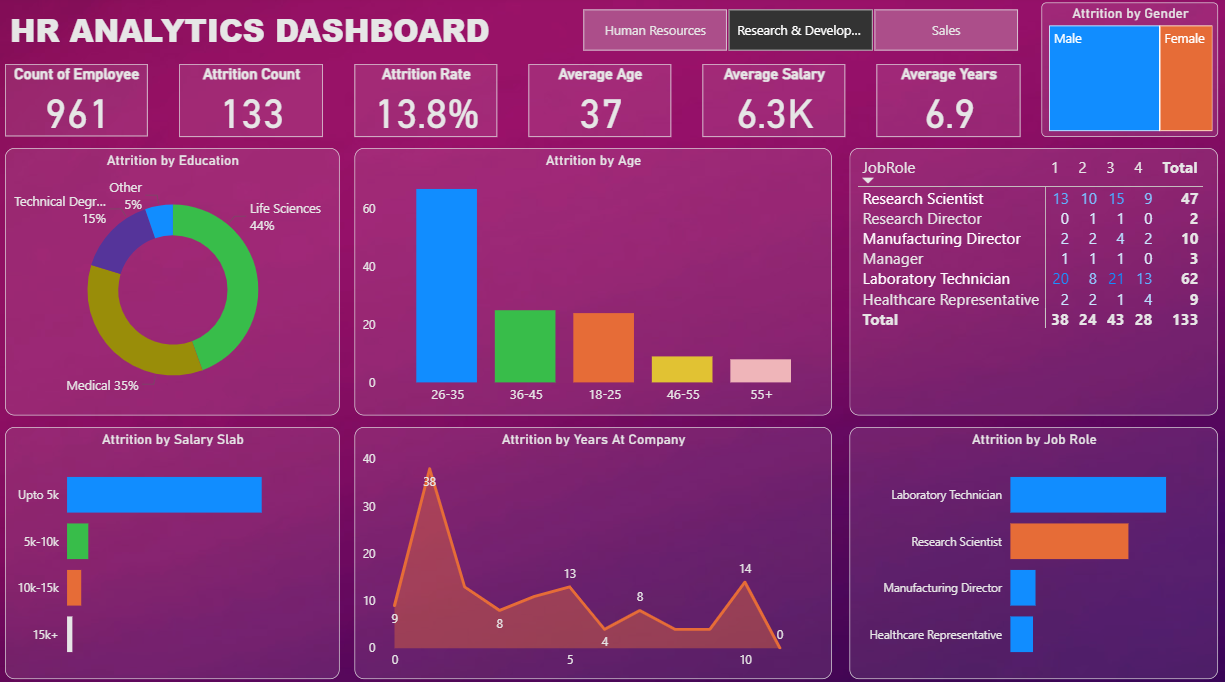

The page's visual inventory and layout, read from the dashboard file:
{"tool":"powerbi","page":{"name":"Page 1","canvas":[1280,720],"ordinal":0},"visuals":[{"type":"card","title":"Count of Employee","fields":{"Values":["CountNonNull(HR_Analytics.EmployeeCount)"]},"box":[6.3,71.9,148.5,75],"z":0},{"type":"card","title":"Attrition Count","fields":{"Values":["Sum(HR_Analytics.AttritionCount)"]},"box":[187.1,71.4,150,75.7],"z":1000},{"type":"card","title":"Attrition Rate","fields":{"Values":["HR_Analytics.AttritionRate"]},"box":[370,71.4,148.6,75.7],"z":2000},{"type":"card","title":"Average Age","fields":{"Values":["Avg(HR_Analytics.Age)"]},"box":[551.4,71.4,148.6,75.7],"z":3000},{"type":"card","title":"Average Salary","fields":{"Values":["Avg(HR_Analytics.MonthlyIncome)"]},"box":[732.9,71.4,148.6,75.7],"z":4000},{"type":"card","title":"Average Years","fields":{"Values":["Avg(HR_Analytics.YearsAtCompany)"]},"box":[914.3,71.4,150,75.7],"z":5000},{"type":"donutChart","title":"Attrition by Education","fields":{"Category":["HR_Analytics.EducationField"],"Y":["Sum(HR_Analytics.AttritionCount)"]},"box":[5.7,160,348.6,278.6],"z":6000},{"type":"columnChart","title":"Attrition by Age","fields":{"Y":["Sum(HR_Analytics.AttritionCount)"],"Category":["HR_Analytics.AgeGroup"]},"box":[370,160,497.1,278.6],"z":7000},{"type":"pivotTable","fields":{"Rows":["HR_Analytics.JobRole"],"Columns":["HR_Analytics.JobSatisfaction"],"Values":["Sum(HR_Analytics.AttritionCount)"]},"box":[885.7,160,384.3,278.6],"z":8000},{"type":"barChart","title":"Attrition by Salary Slab","fields":{"Y":["Sum(HR_Analytics.AttritionCount)"],"Category":["HR_Analytics.SalarySlab"]},"box":[5.7,450,348.6,262.9],"z":9000},{"type":"barChart","title":"Attrition by Job Role","fields":{"Y":["Sum(HR_Analytics.AttritionCount)"],"Category":["HR_Analytics.JobRole"]},"box":[885.7,450,384.3,262.9],"z":10000},{"type":"areaChart","title":"Attrition by Years At Company","fields":{"Y":["Sum(HR_Analytics.AttritionCount)"],"Category":["HR_Analytics.YearsAtCompany"]},"box":[370,450,497.1,262.9],"z":11000},{"type":"treemap","title":"Attrition by Gender","fields":{"Values":["Sum(HR_Analytics.AttritionCount)"],"Group":["HR_Analytics.Gender"]},"box":[1085.7,7.1,184.3,140],"z":12000},{"type":"slicer","fields":{"Values":["HR_Analytics.Department"]},"box":[582.9,7.1,502.9,57.1],"z":13000},{"type":"textbox","box":[5.9,7.3,576.8,57.1],"z":14000}]}

Visuals, with their boxes in screenshot pixels (x1, y1, x2, y2), scaled from the page's 1280x720 canvas onto the 1225x682 screenshot:
"Count of Employee" card: pyautogui.locateOnScreen(6, 68, 148, 139)
"Attrition Count" card: pyautogui.locateOnScreen(179, 68, 323, 139)
"Attrition Rate" card: pyautogui.locateOnScreen(354, 68, 496, 139)
"Average Age" card: pyautogui.locateOnScreen(528, 68, 670, 139)
"Average Salary" card: pyautogui.locateOnScreen(701, 68, 844, 139)
"Average Years" card: pyautogui.locateOnScreen(875, 68, 1019, 139)
"Attrition by Education" donutChart: pyautogui.locateOnScreen(5, 152, 339, 415)
"Attrition by Age" columnChart: pyautogui.locateOnScreen(354, 152, 830, 415)
pivotTable - HR_Analytics.JobRole x HR_Analytics.JobSatisfaction: pyautogui.locateOnScreen(848, 152, 1215, 415)
"Attrition by Salary Slab" barChart: pyautogui.locateOnScreen(5, 426, 339, 675)
"Attrition by Job Role" barChart: pyautogui.locateOnScreen(848, 426, 1215, 675)
"Attrition by Years At Company" areaChart: pyautogui.locateOnScreen(354, 426, 830, 675)
"Attrition by Gender" treemap: pyautogui.locateOnScreen(1039, 7, 1215, 139)
slicer - HR_Analytics.Department: pyautogui.locateOnScreen(558, 7, 1039, 61)
textbox: pyautogui.locateOnScreen(6, 7, 558, 61)
